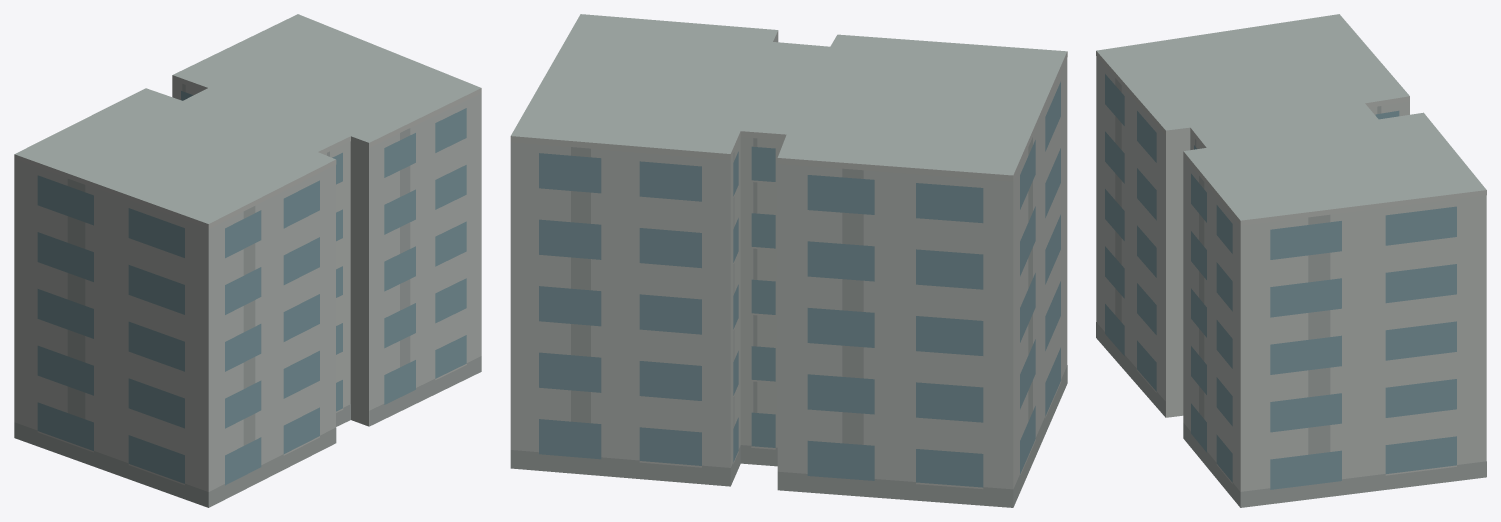
File: survey-upis-32688175.glb
3 views of the same model, side by side, from view 1: azimuth 30°, elevation 25°; view 2: azimuth 150°, elevation 25°; view 3: azimuth 270°, elevation 25° (orthographic). The views are drawn at different scales.
Parts seen in each view (by area): view 1: survey-upis-32688175.tmp; view 2: survey-upis-32688175.tmp; view 3: survey-upis-32688175.tmp.
Boxes of the visible parts, x1,y1,x2,y2 form: survey-upis-32688175.tmp: [14, 14, 481, 507]; survey-upis-32688175.tmp: [510, 14, 1067, 507]; survey-upis-32688175.tmp: [1096, 14, 1486, 507].
Bounding box in the file's own units: 20.84 × 13.5 × 16.65.
